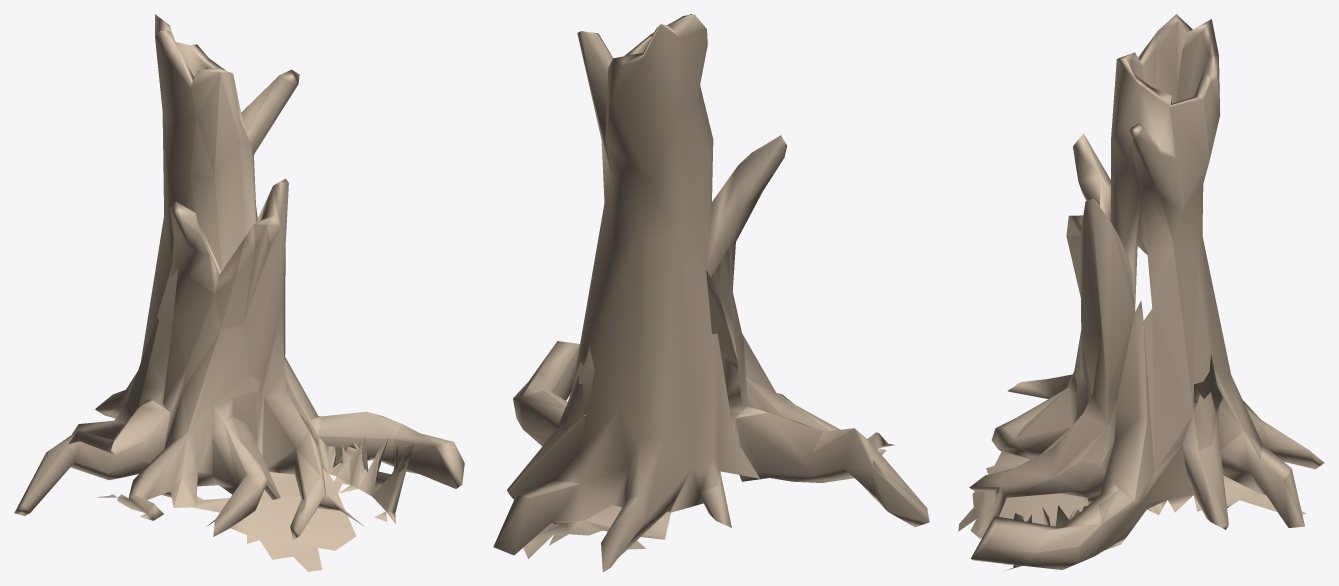
File: terrain4_oak_0.glb
The picture shows the model from 3 angles, left to right: view 1: azimuth 30°, elevation 25°; view 2: azimuth 150°, elevation 25°; view 3: azimuth 270°, elevation 25°; orthographic projection. The views are drawn at different scales.
Parts seen in each view (by area): view 1: oak_0; view 2: oak_0; view 3: oak_0.
Part boxes in pixels (x1,y1,x2,y2): oak_0: (14, 14, 464, 571); oak_0: (493, 14, 929, 571); oak_0: (958, 14, 1324, 570).
Bounding box in the file's own units: 37.44 × 44.05 × 29.81.
1 material, 1 textured.
